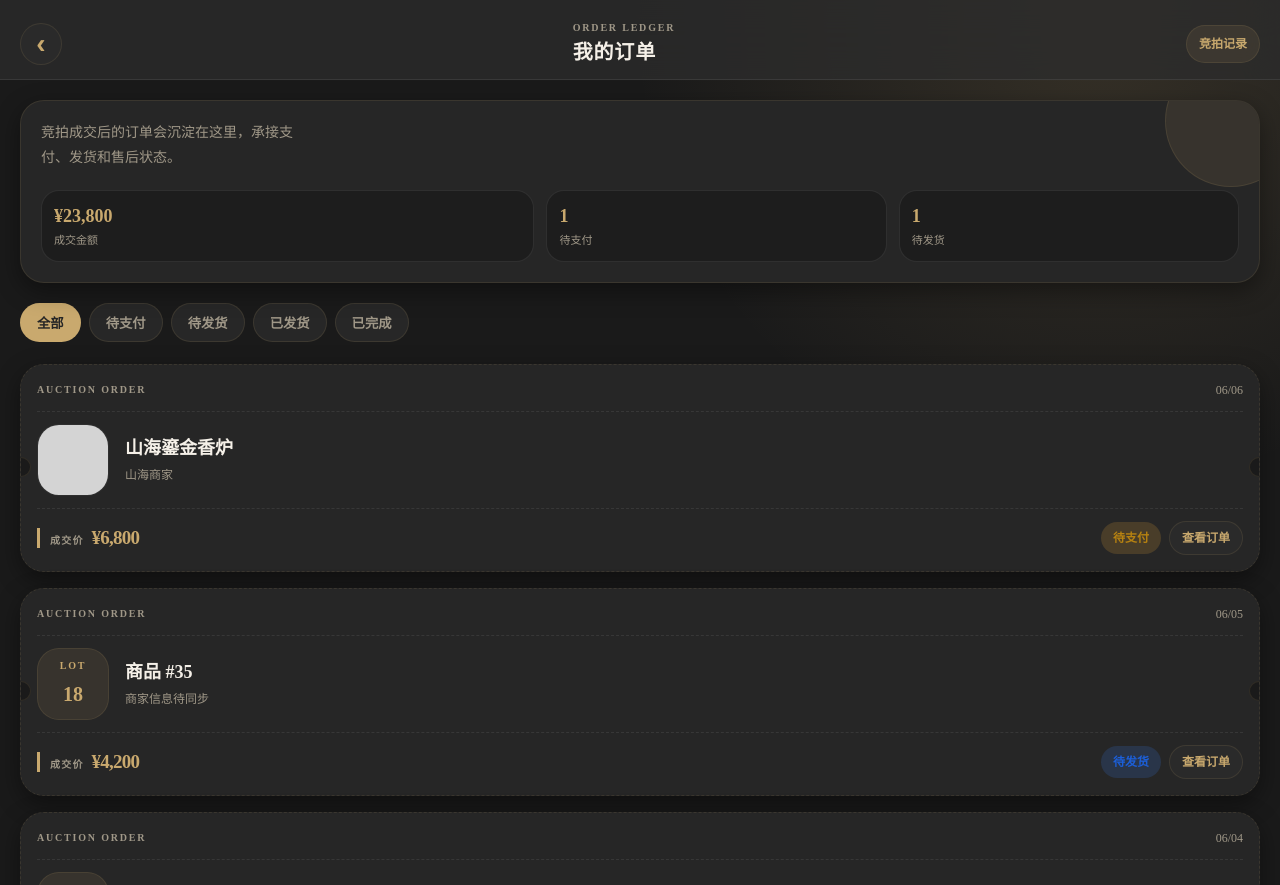
Scenario: OrderList page › shows a user-friendly empty state when a status has no orders
The width and height of the screenshot is (1280, 885).
Expected: the heading "山海鎏金香炉" is shown, [125,438,233,458]
Step 1. Click the button "已完成" → (372, 322), box [335,302,409,342]
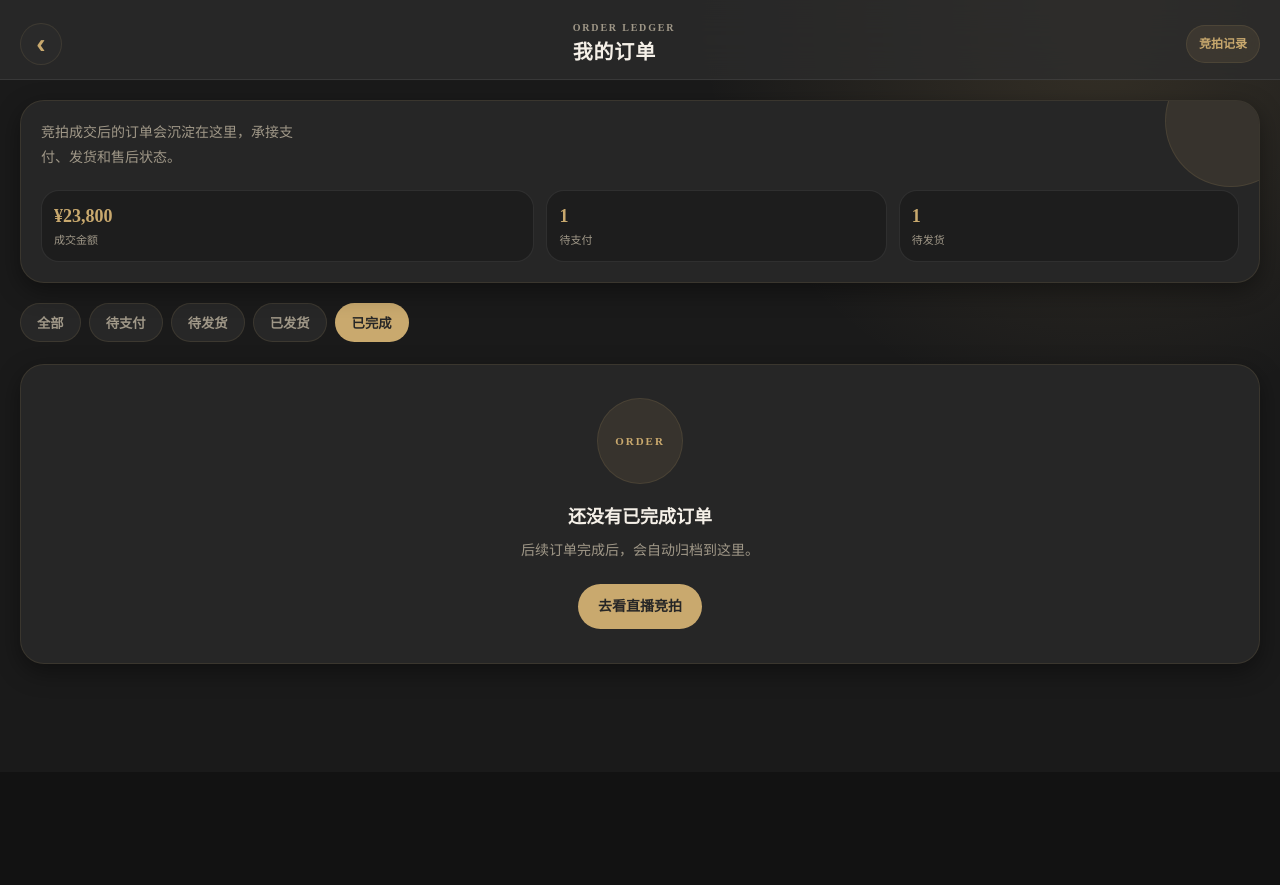
Now the heading "还没有已完成订单" is shown, box [568,504,712,531]
Now the text "后续订单完成后，会自动归档到这里。" is shown, box [521,539,759,564]
